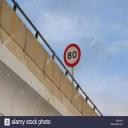speed_limit_80: (63, 42, 81, 68)
